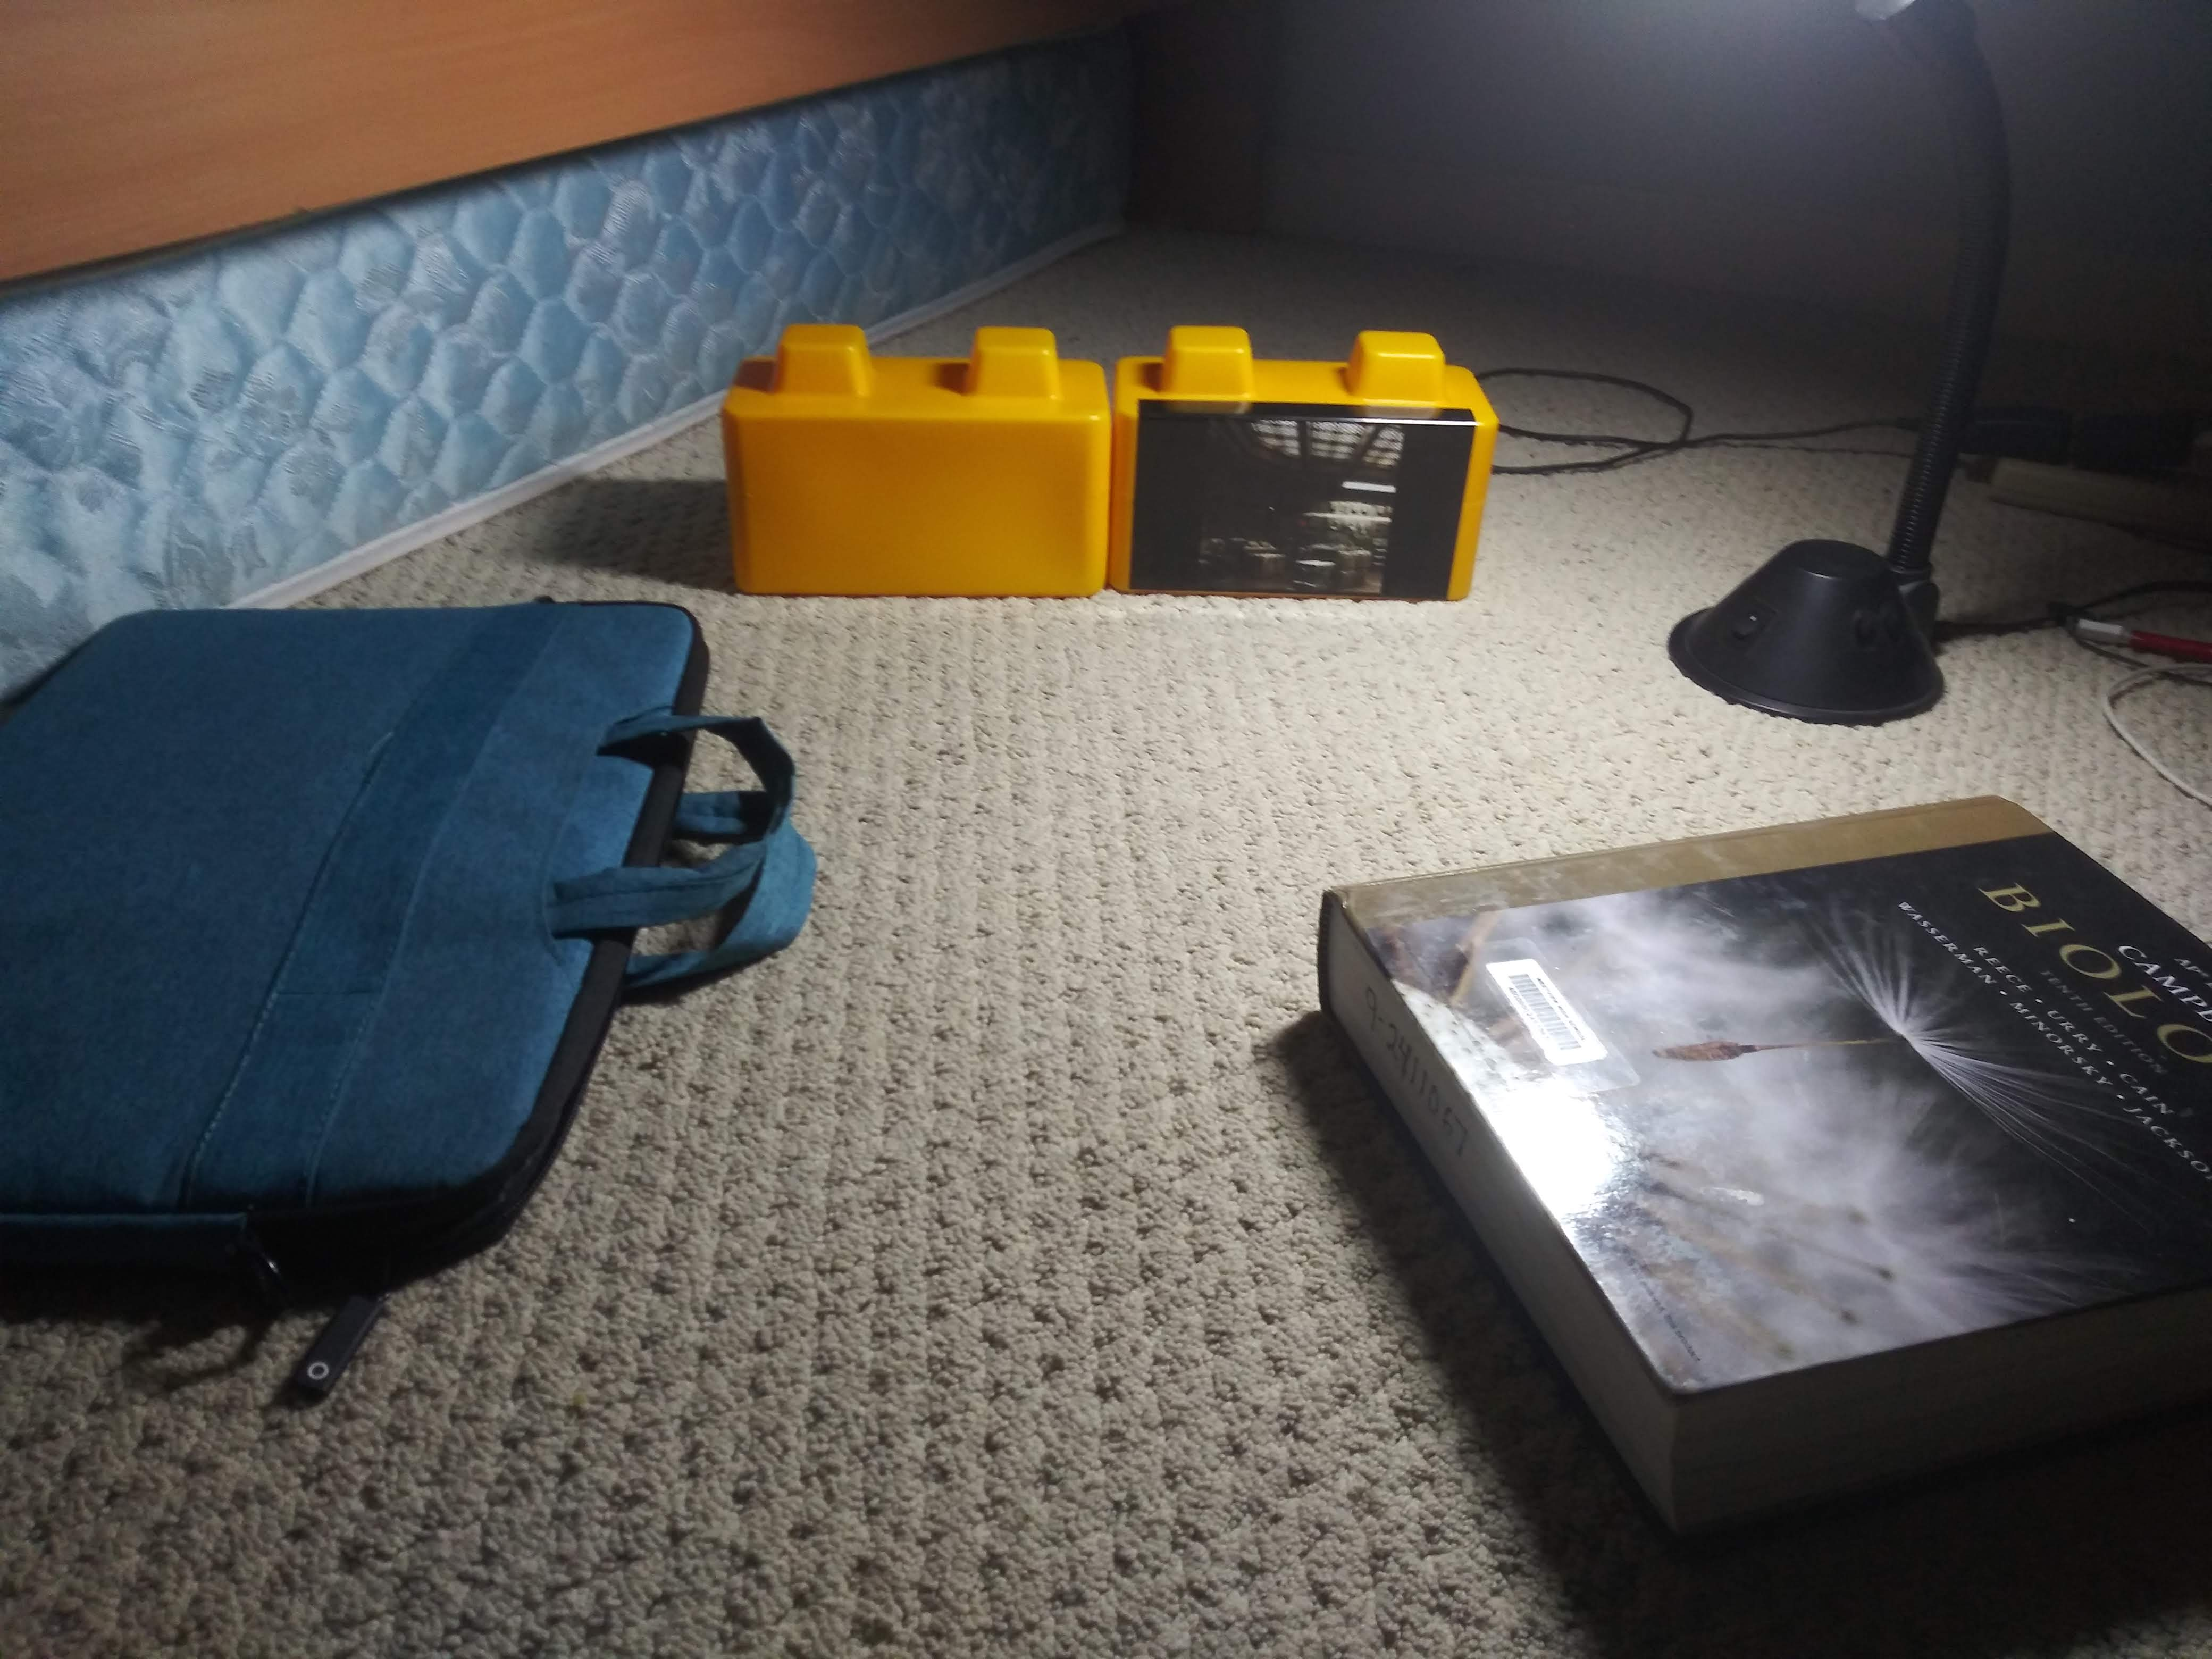skystone: (1132, 371, 1477, 610)
stone: (725, 345, 1108, 587)
